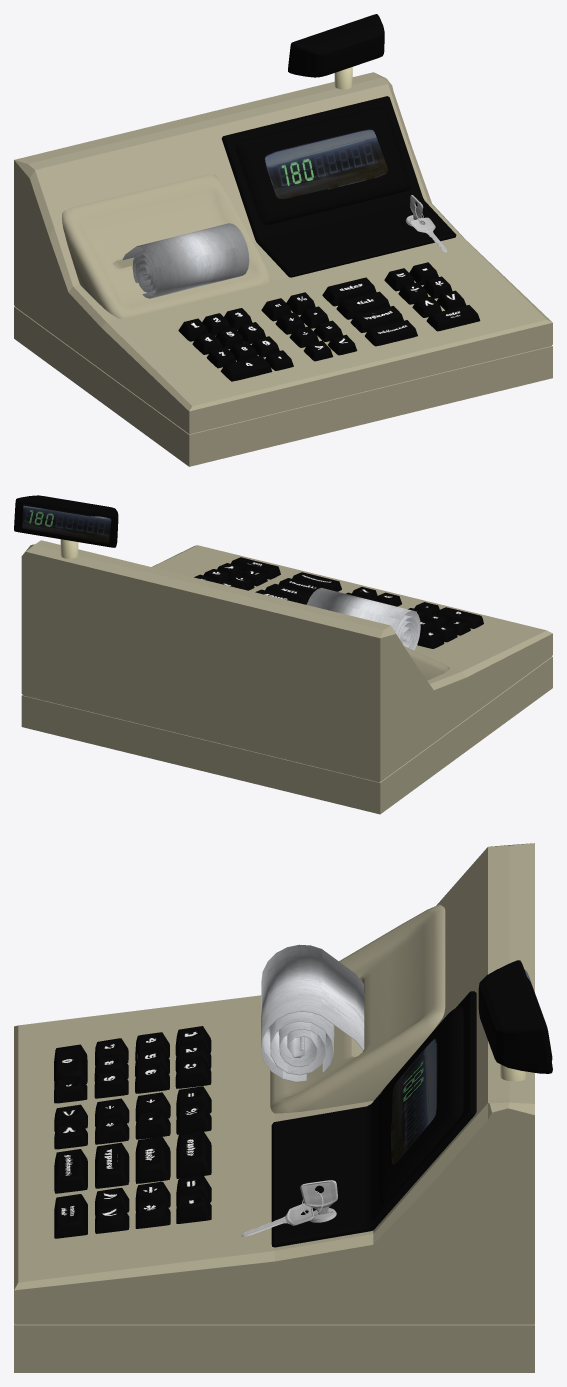
File: cash_register.glb
3 renders of one model, top to bottom at view 1: azimuth 30°, elevation 25°; view 2: azimuth 150°, elevation 25°; view 3: azimuth 270°, elevation 25°, orthographic. The views are drawn at different scales.
Parts seen in each view (by area): view 1: object 1, object 2, Cube.002_Material.008_0, Cube.005_Material.002_0, object 9, object 7, object 8, Cylinder_Material.007_0; view 2: object 1, object 9, object 7, Cube.005_Material.002_0, object 8, object 2, Cube.002_Material.008_0; view 3: object 1, object 2, object 9, Cube.002_Material.008_0, object 7, Cube.005_Material.002_0, object 8, Cylinder_Material.007_0.
Part boxes in pixels (x1=…): object 1: x1=14, y1=72, x2=552, y2=466; object 2: x1=221, y1=14, x2=456, y2=277; Cube.002_Material.008_0: x1=62, y1=174, x2=271, y2=318; Cube.005_Material.002_0: x1=235, y1=107, x2=410, y2=224; object 9: x1=261, y1=262, x2=480, y2=361; object 7: x1=122, y1=223, x2=249, y2=298; object 8: x1=178, y1=308, x2=293, y2=381; Cylinder_Material.007_0: x1=405, y1=195, x2=447, y2=252; object 1: x1=21, y1=540, x2=552, y2=814; object 9: x1=194, y1=557, x2=401, y2=606; object 7: x1=306, y1=588, x2=420, y2=650; Cube.005_Material.002_0: x1=20, y1=504, x2=111, y2=543; object 8: x1=408, y1=602, x2=483, y2=648; object 2: x1=14, y1=495, x2=118, y2=547; Cube.002_Material.008_0: x1=404, y1=646, x2=449, y2=680; object 1: x1=14, y1=843, x2=534, y2=1372; object 2: x1=271, y1=960, x2=552, y2=1247; object 9: x1=54, y1=1086, x2=211, y2=1238; Cube.002_Material.008_0: x1=270, y1=904, x2=445, y2=1113; object 7: x1=261, y1=944, x2=364, y2=1082; Cube.005_Material.002_0: x1=378, y1=969, x2=552, y2=1204; object 8: x1=54, y1=1026, x2=211, y2=1103; Cylinder_Material.007_0: x1=241, y1=1180, x2=337, y2=1236.
Size of the model in its own units: 8.47 by 5.15 by 7.25.
Materials: 9 (5 with a texture image).
